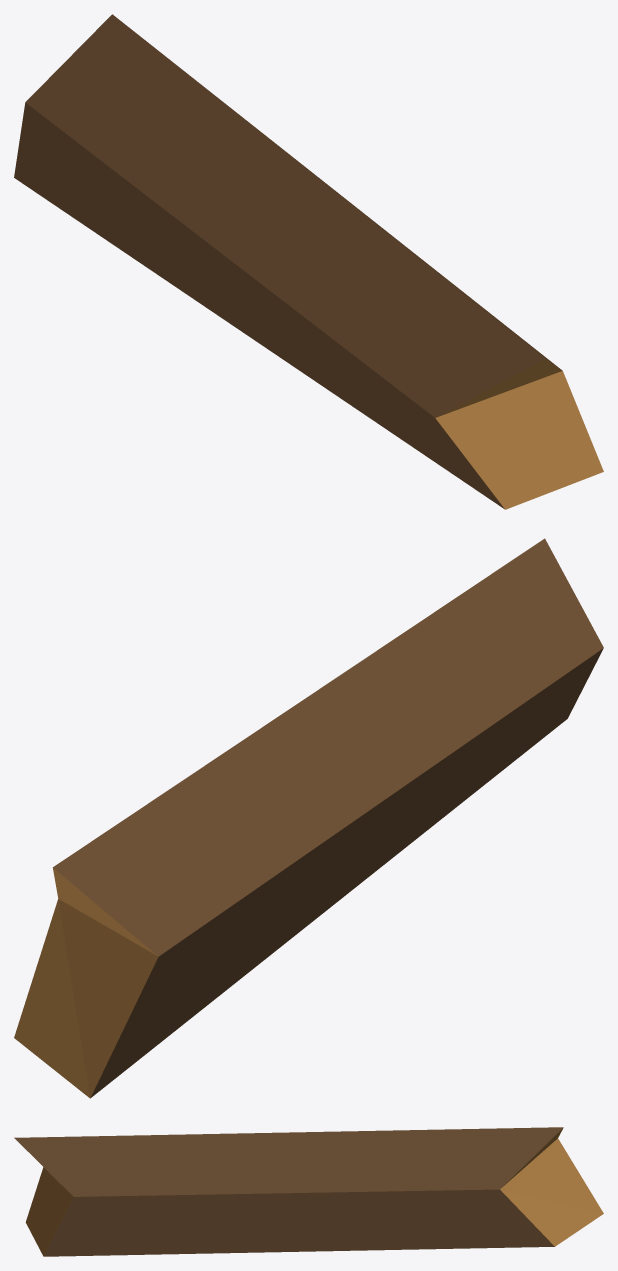
Rendered from nature-tree-debris-a.glb.
3 renders of one model, top to bottom at view 1: azimuth 30°, elevation 25°; view 2: azimuth 150°, elevation 25°; view 3: azimuth 270°, elevation 25°, orthographic. The views are drawn at different scales.
Visible parts, largest first — view 1: tree-debris-a; view 2: tree-debris-a; view 3: tree-debris-a.
Part boxes in pixels (left/top/right/bottom): tree-debris-a: left=14, top=14, right=603, bottom=509; tree-debris-a: left=14, top=538, right=603, bottom=1098; tree-debris-a: left=14, top=1127, right=603, bottom=1256.
Bounding box in the file's own units: 0.3176 × 0.3114 × 1.56.
